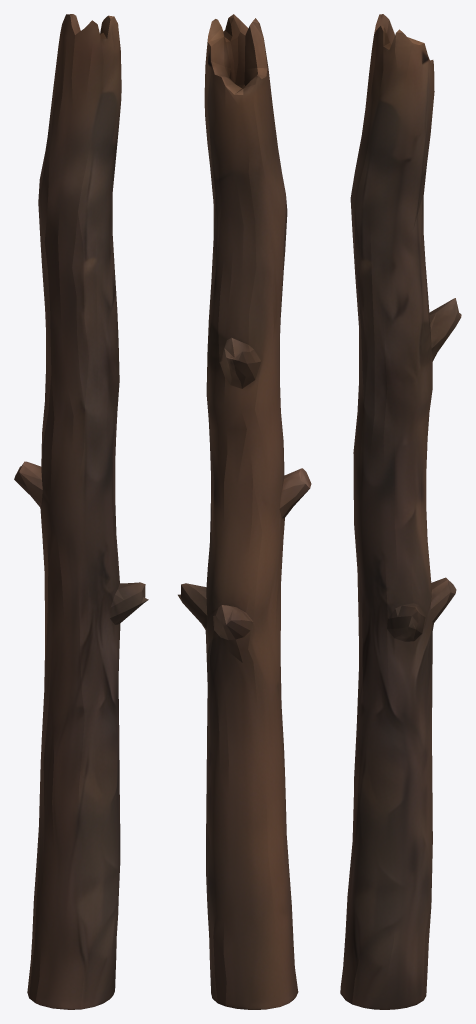
The model's file is base_basic_pbr.fbx.
The picture shows the model from 3 angles, left to right: view 1: azimuth 30°, elevation 25°; view 2: azimuth 210°, elevation 25°; view 3: azimuth 330°, elevation 25°; orthographic projection.
Visible parts, largest first — view 1: model; view 2: model; view 3: model.
Boxes of the visible parts, x1,y1,x2,y2 form: model: (14, 14, 148, 1009); model: (178, 14, 311, 1009); model: (340, 14, 461, 1009).
Bounding box in the file's own units: 18.83 × 181 × 17.38.
1 material, 1 textured.
